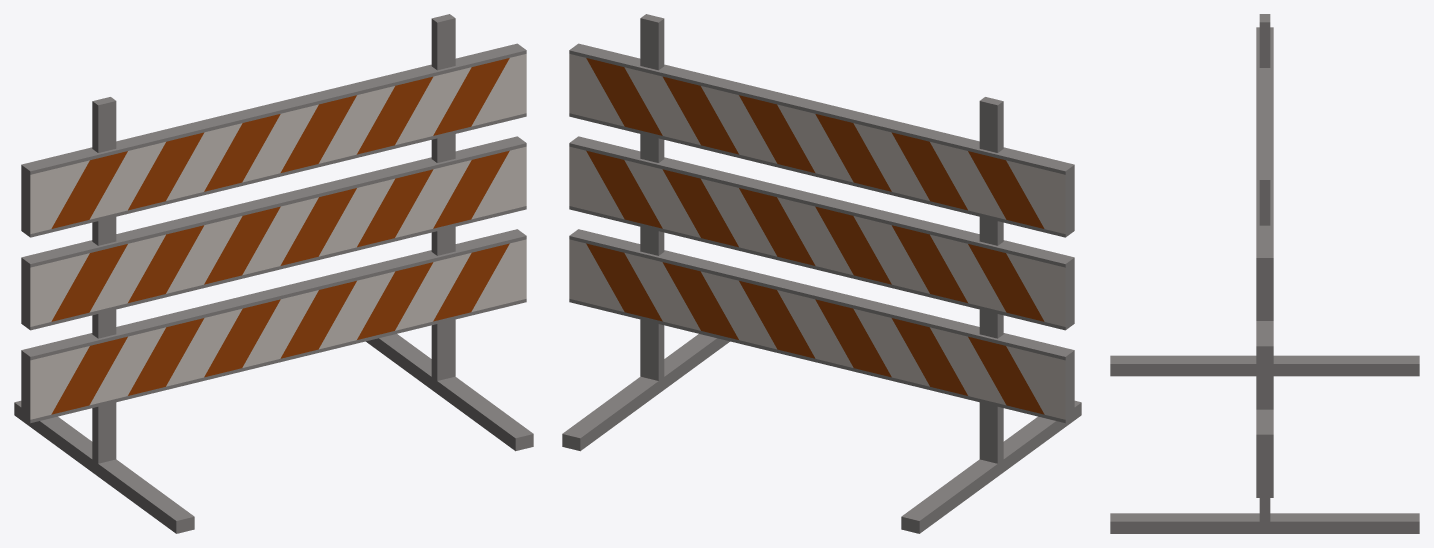
File: TrafficBarrier_1.gltf
3 renders of one model, left to right at view 1: azimuth 30°, elevation 25°; view 2: azimuth 150°, elevation 25°; view 3: azimuth 270°, elevation 25°, orthographic. The views are drawn at different scales.
Visible parts, largest first — view 1: TrafficBarrier_1; view 2: TrafficBarrier_1; view 3: TrafficBarrier_1.
Boxes of the visible parts, left/top/right/bottom form: TrafficBarrier_1: left=14, top=14, right=533, bottom=533; TrafficBarrier_1: left=562, top=14, right=1081, bottom=533; TrafficBarrier_1: left=1110, top=14, right=1419, bottom=533.
Size of the model in its own units: 1.56 by 1.11 by 0.8806.
Materials: 1 (1 with a texture image).
